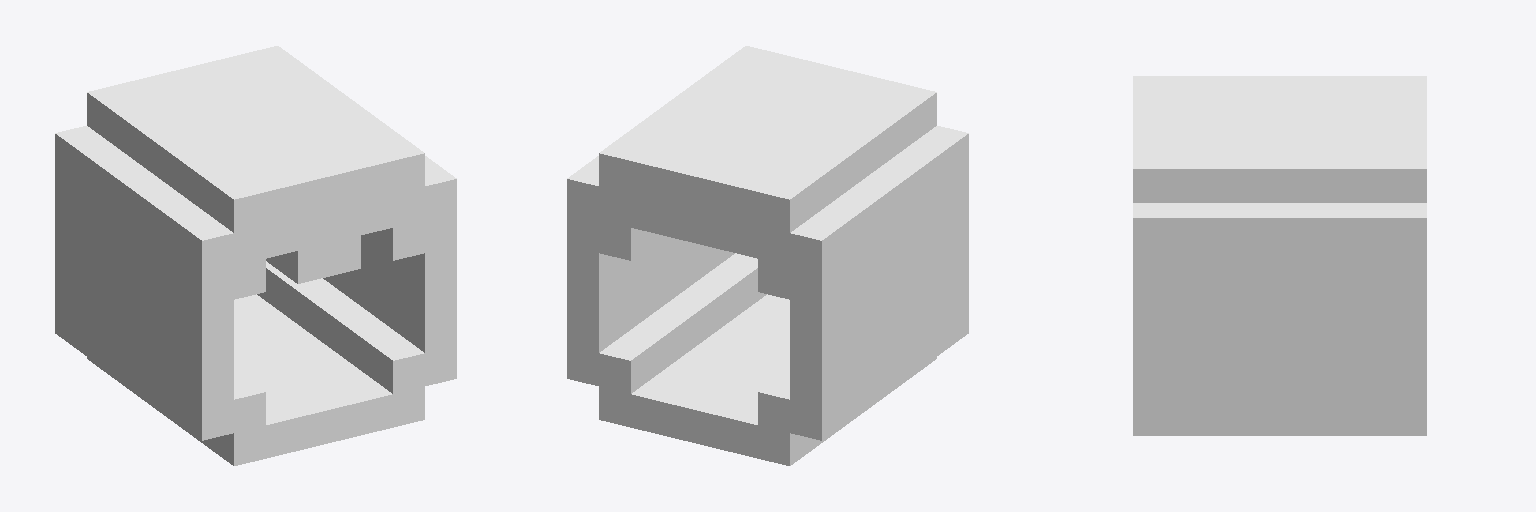
Rendered from Corridor_DOOR.obj.
3 views of the same model, side by side, from view 1: azimuth 30°, elevation 25°; view 2: azimuth 150°, elevation 25°; view 3: azimuth 270°, elevation 25° (orthographic).
Parts seen in each view (by area): view 1: object 1; view 2: object 1; view 3: object 1.
Boxes of the visible parts, x1=… form: object 1: x1=55, y1=46, x2=456, y2=465; object 1: x1=567, y1=46, x2=968, y2=465; object 1: x1=1133, y1=76, x2=1426, y2=435.
Size of the model in its own units: 0.8 by 0.8 by 0.8.